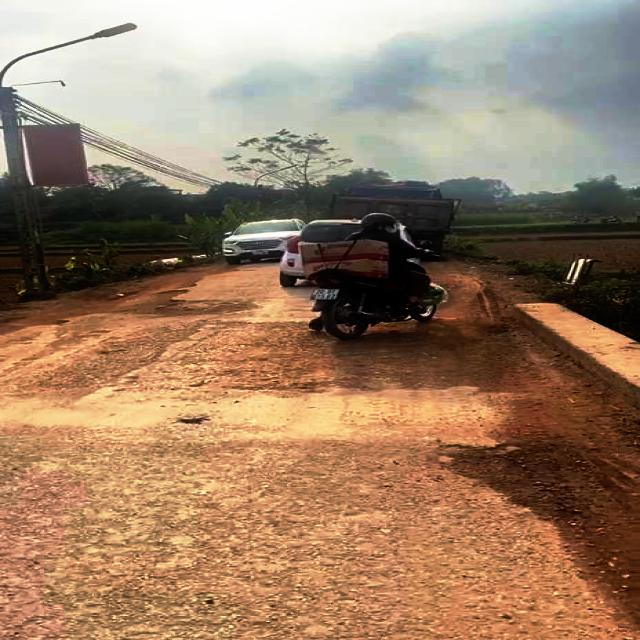pothole: (436, 441, 579, 527), (79, 287, 259, 318)
